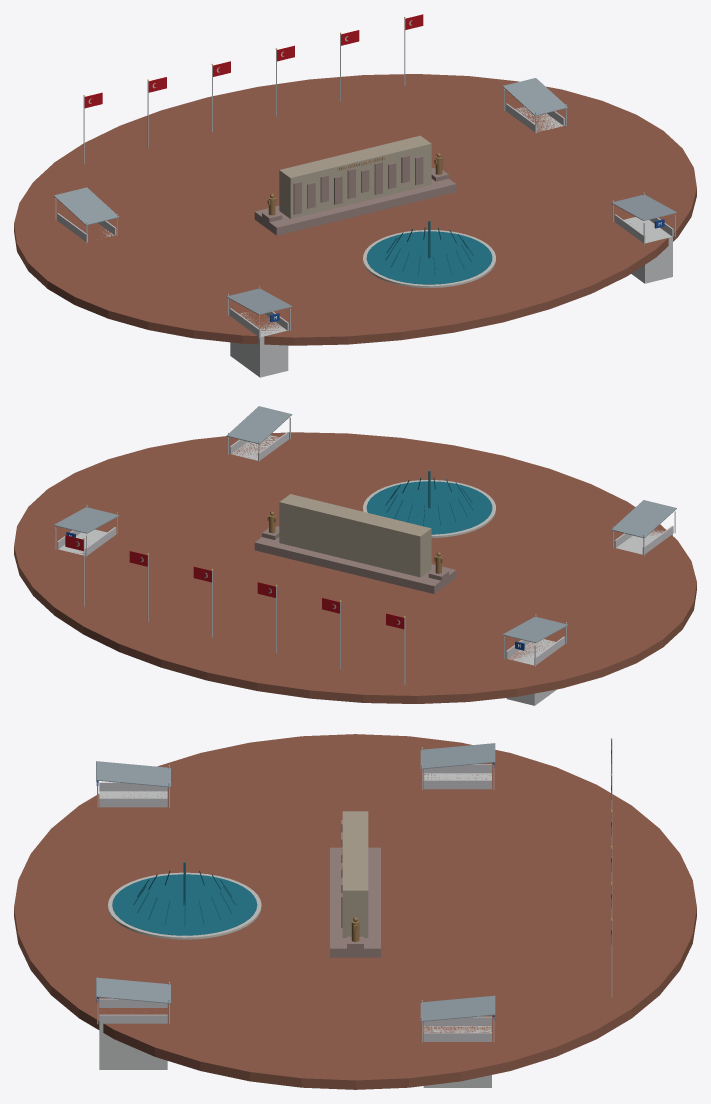
File: simge_kizilay_meydani.glb
3 renders of one model, top to bottom at view 1: azimuth 30°, elevation 25°; view 2: azimuth 150°, elevation 25°; view 3: azimuth 270°, elevation 25°, orthographic. The views are drawn at different scales.
Visible parts, largest first — view 1: Simge_Kizilay_Meydani.001; view 2: Simge_Kizilay_Meydani.001; view 3: Simge_Kizilay_Meydani.001.
Boxes of the visible parts, bbox=[...] form: Simge_Kizilay_Meydani.001: bbox=[14, 14, 696, 377]; Simge_Kizilay_Meydani.001: bbox=[14, 406, 696, 705]; Simge_Kizilay_Meydani.001: bbox=[14, 734, 696, 1089].
Size of the model in its own units: 96 by 16.42 by 80.
